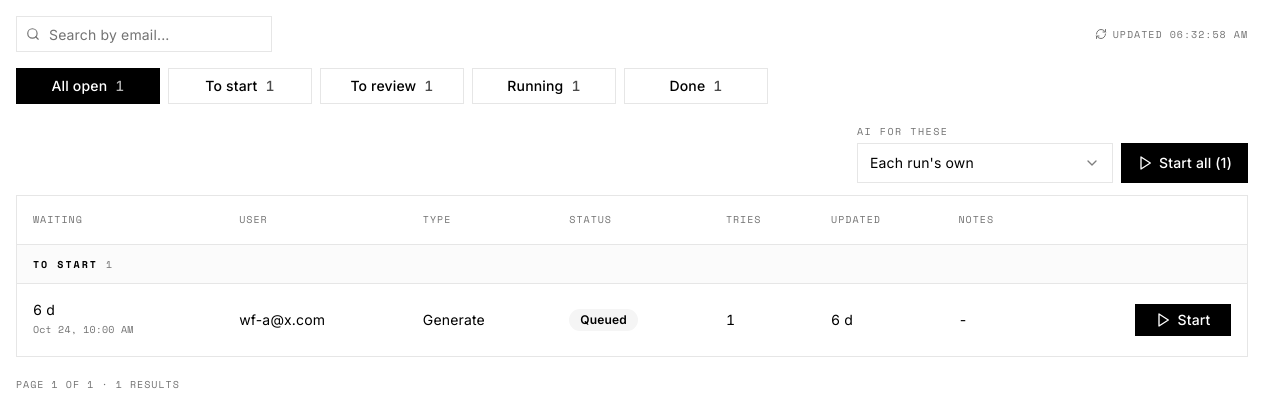
Test: AdminCadQueuePage › clears the Start results when the tab changes
Click the button "Start" at (1183, 320), box left=1135, top=304, right=1231, bottom=336
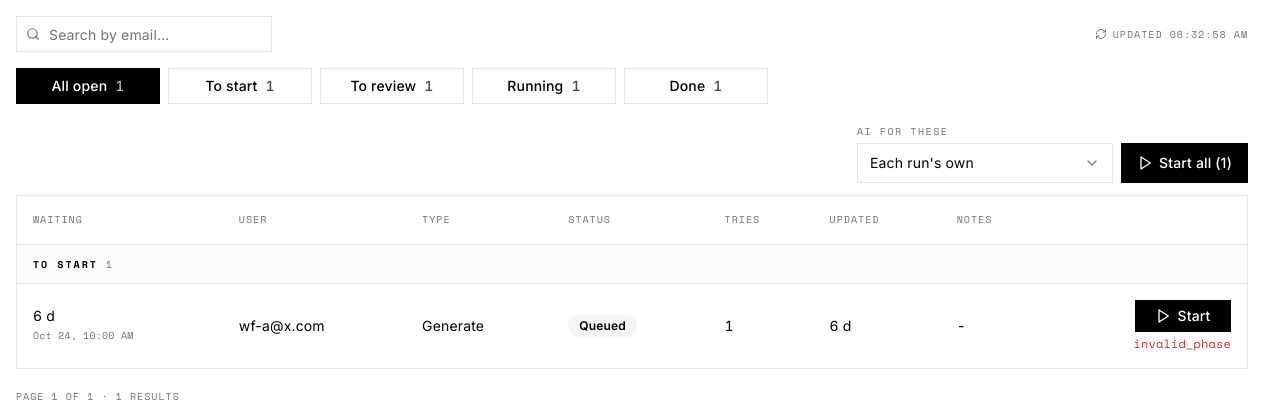
Result: the text "invalid_phase" is shown at left=1133, top=336, right=1231, bottom=352
Click the tab "Running 1" at (544, 86), box left=472, top=68, right=616, bottom=104
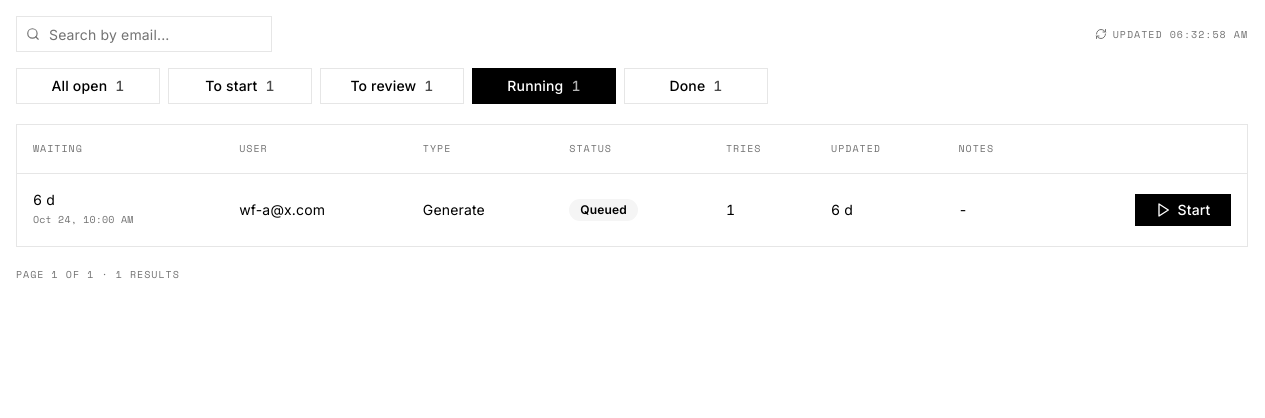
Expected: the text "wf-a@x.com" is shown, left=239, top=200, right=325, bottom=218
Result: the text "invalid_phase" is gone
